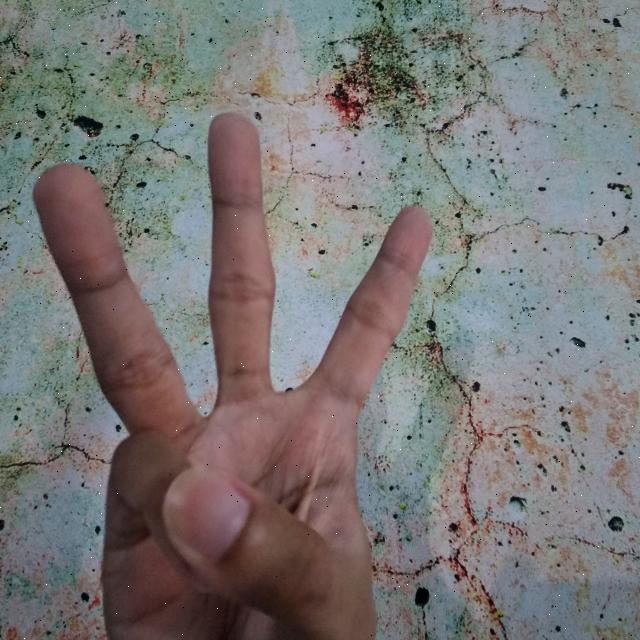W: (21, 103, 444, 640)
